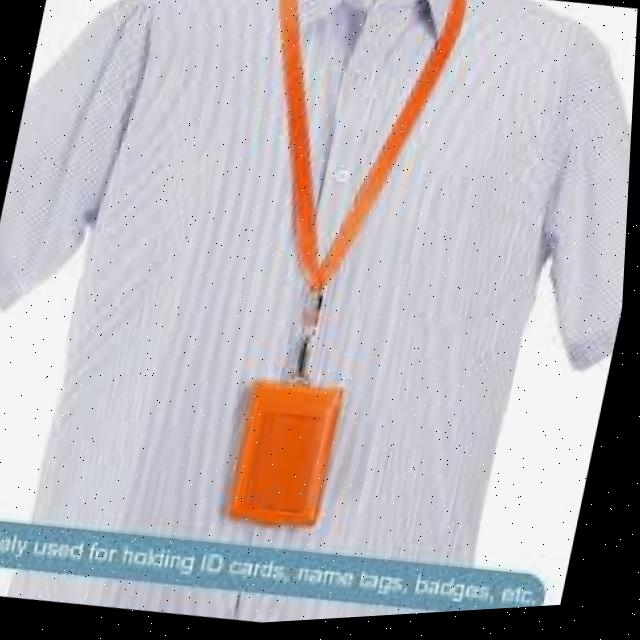id_card: (167, 0, 484, 546)
